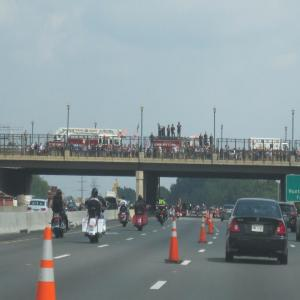Vehicle-registration-plate: (253, 226, 265, 232)
